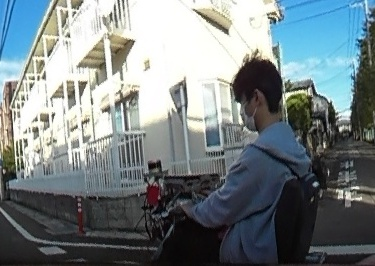person: (179, 57, 308, 266)
